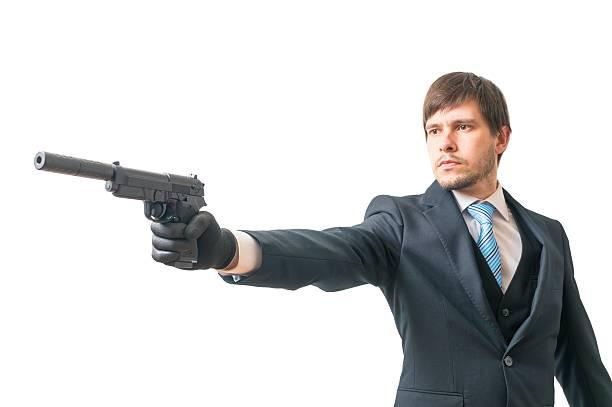weapon: (31, 148, 207, 272)
